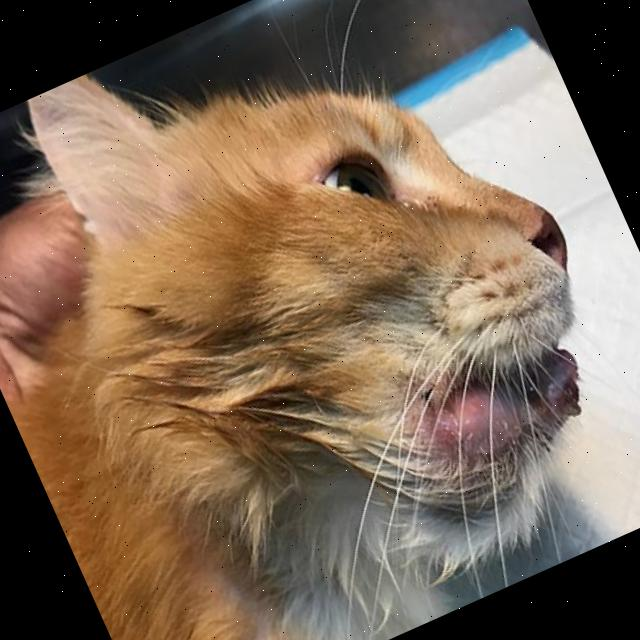cat-lump-and-bump: (420, 342, 594, 479)
